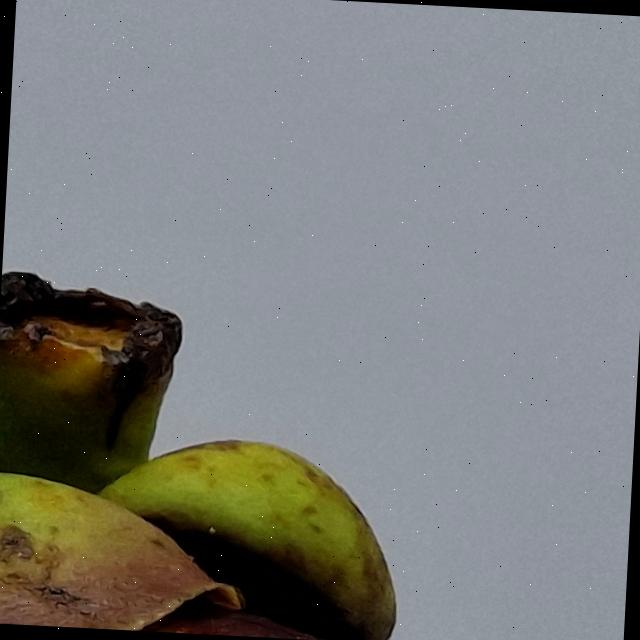mangosteen: (0, 213, 640, 640)
